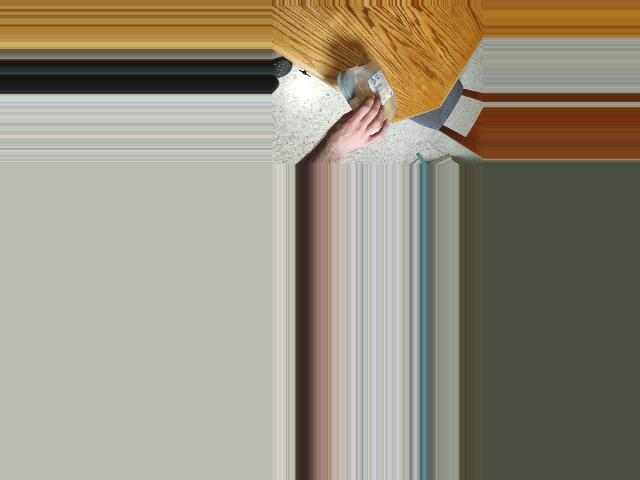cheese: (354, 67, 394, 124)
